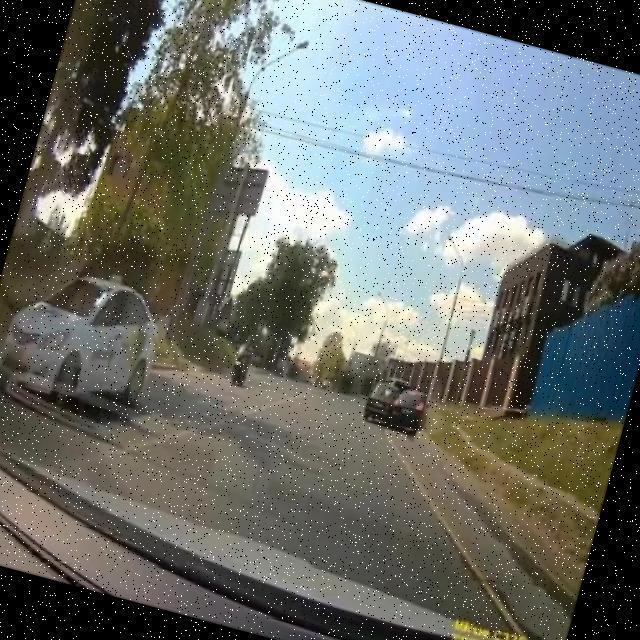accident: (361, 377, 435, 440)
